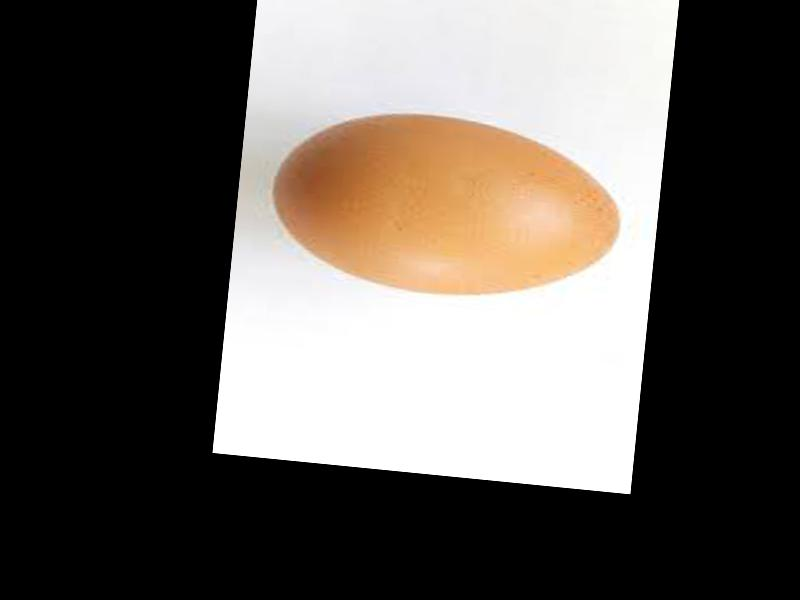Eggs: (266, 100, 628, 309)
